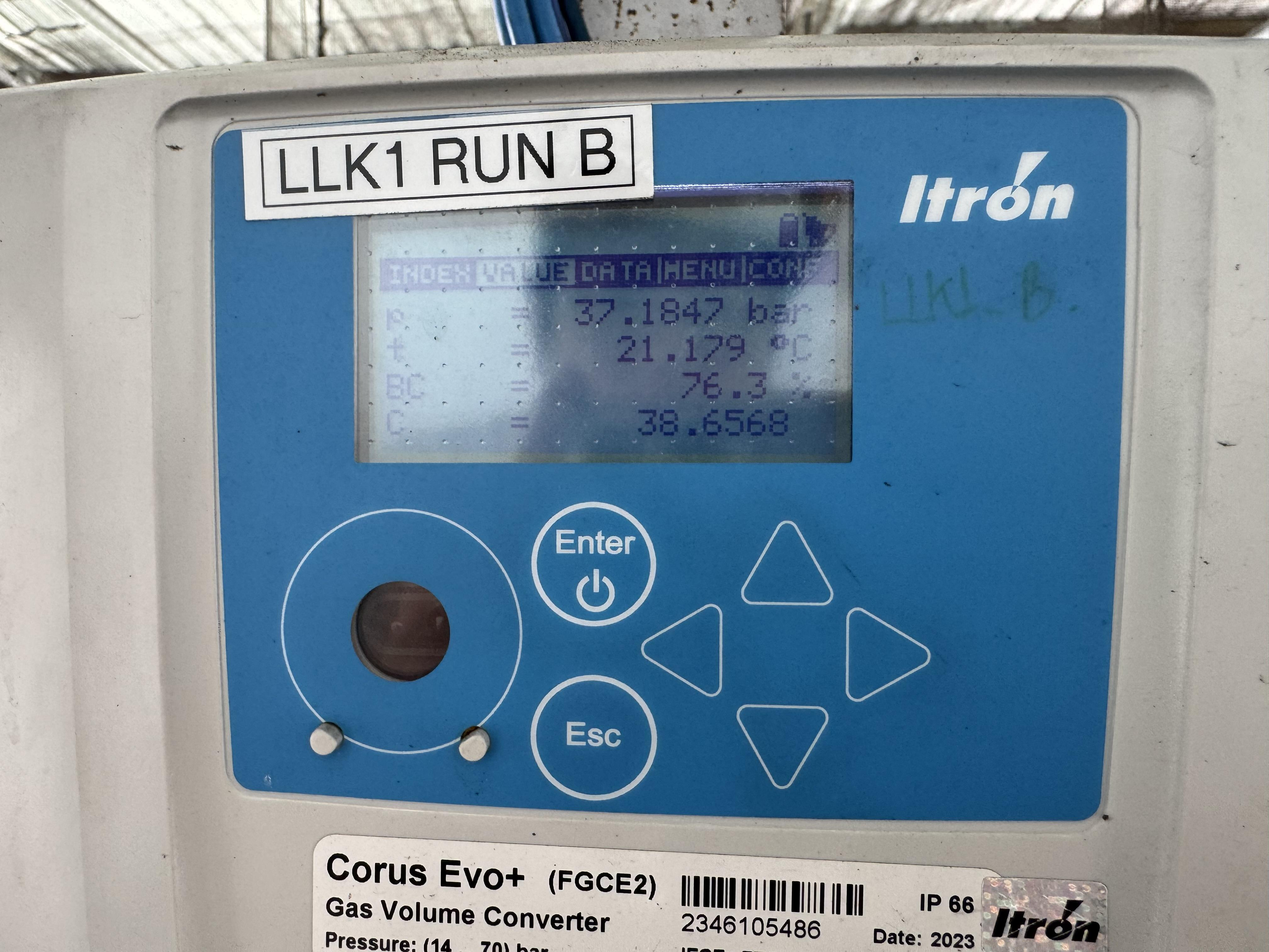digital_screen: (353, 180, 854, 464)
